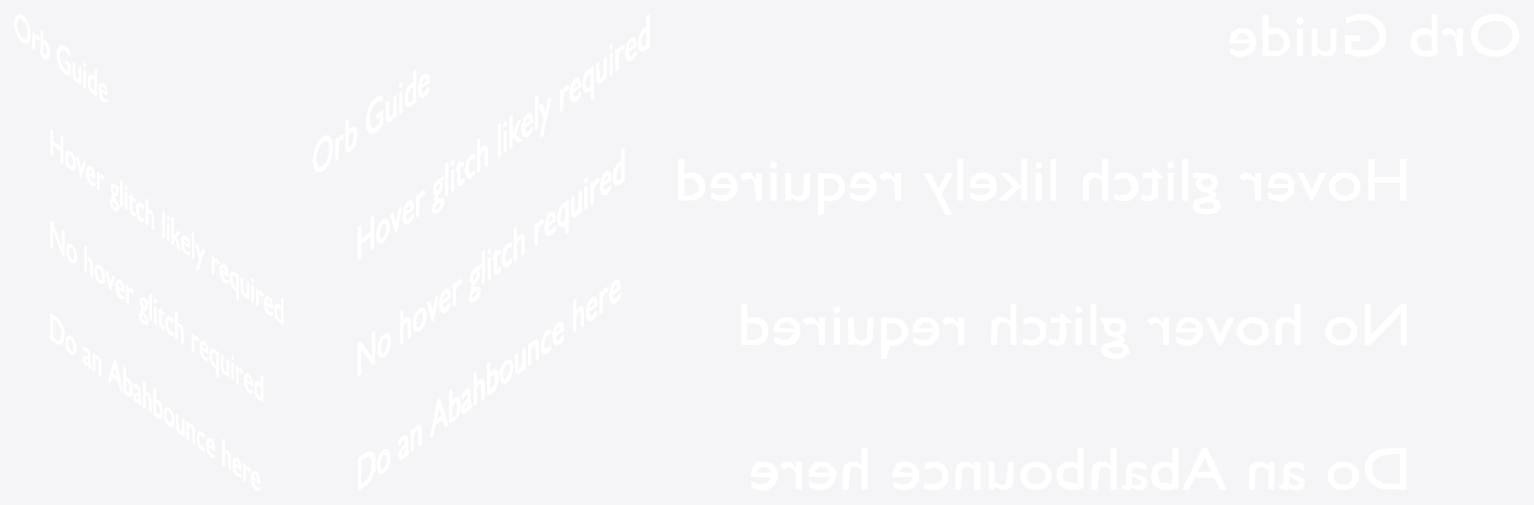
Rendered from orbs-fortress-prison.glb.
The picture shows the model from 3 angles, left to right: view 1: azimuth 30°, elevation 25°; view 2: azimuth 150°, elevation 25°; view 3: azimuth 270°, elevation 25°; orthographic projection. The views are drawn at different scales.
Visible parts, largest first — view 1: Text.001; view 2: Text.001; view 3: Text.001.
Boxes of the visible parts, x1=… form: Text.001: x1=14, y1=14, x2=283, y2=490; Text.001: x1=312, y1=14, x2=649, y2=490; Text.001: x1=678, y1=14, x2=1519, y2=490.
Size of the model in its own units: 0.0656 by 7.92 by 12.66.
1 material, 1 textured.
